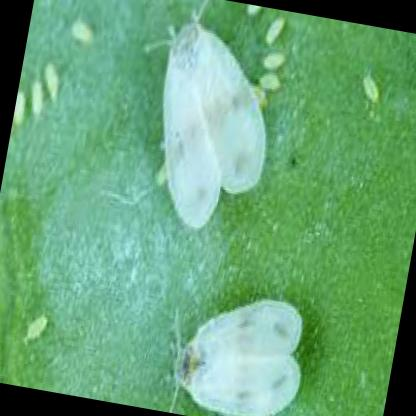whitefly: (161, 22, 264, 234), (170, 300, 303, 416)
